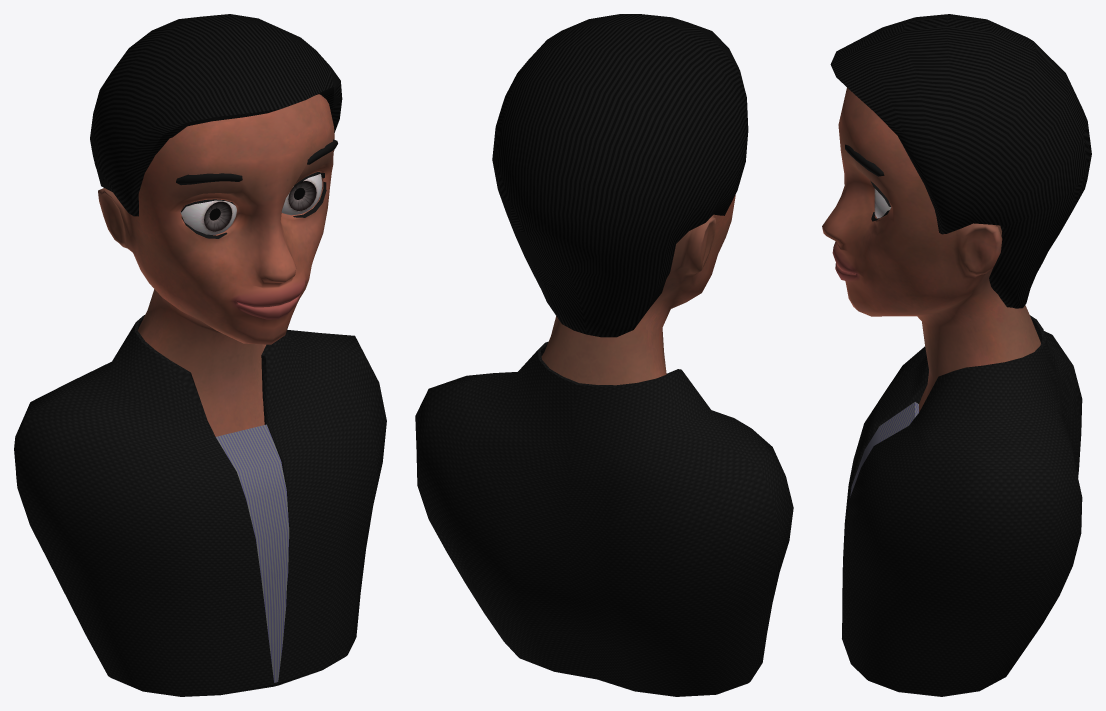
File: male3.glb
3 renders of one model, left to right at view 1: azimuth 30°, elevation 25°; view 2: azimuth 150°, elevation 25°; view 3: azimuth 270°, elevation 25°, orthographic. The views are drawn at different scales.
Visible parts, largest first — view 1: entrepreneur_male; view 2: entrepreneur_male; view 3: entrepreneur_male.
Part boxes in pixels (box(x1,y1,x2,y2)): entrepreneur_male: box(14, 14, 386, 696); entrepreneur_male: box(415, 14, 793, 696); entrepreneur_male: box(822, 14, 1091, 696).
Bounding box in the file's own units: 0.3249 × 0.5427 × 0.2161.
1 material, 1 textured.
